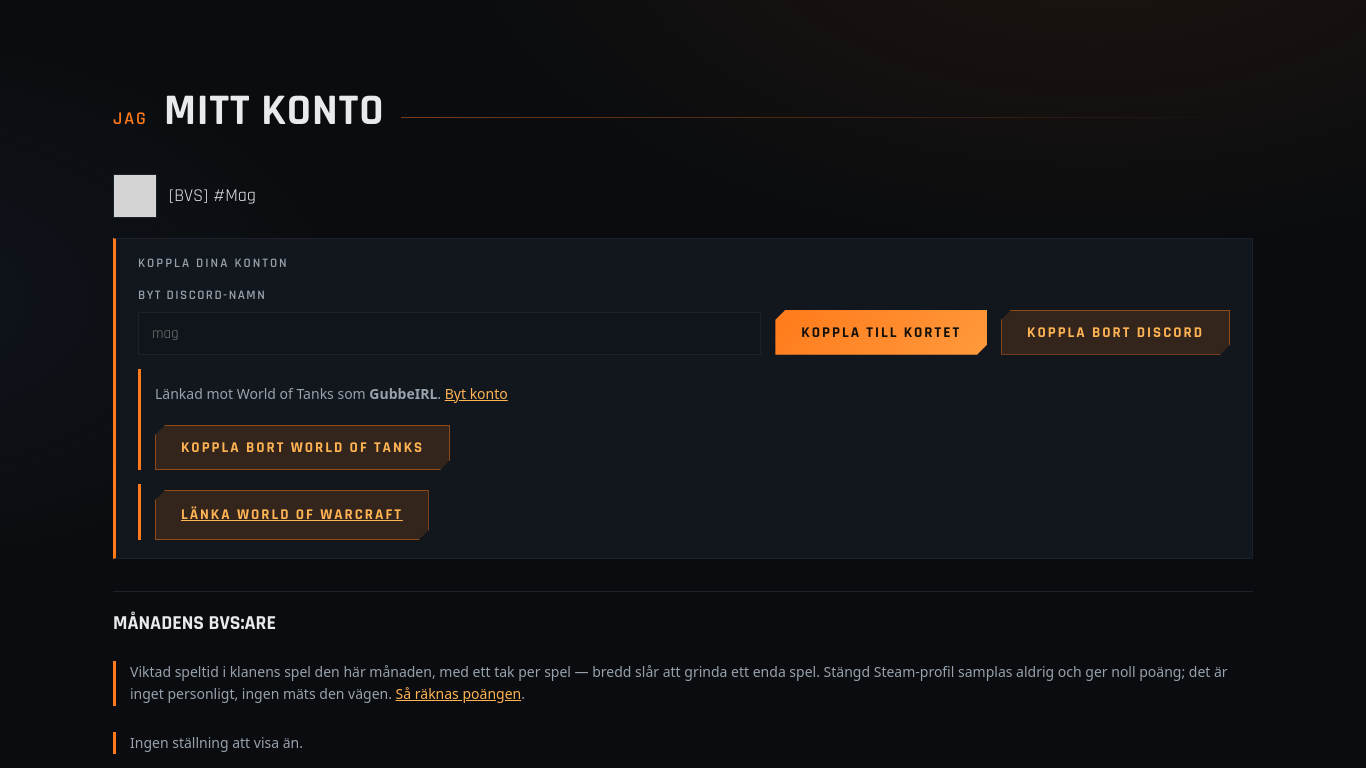
Test: unlinking a World of Tanks account › says so when the server refused to unlink
Click the button "Koppla bort World of Tanks" at x=303, y=448, box [155,425,450,470]
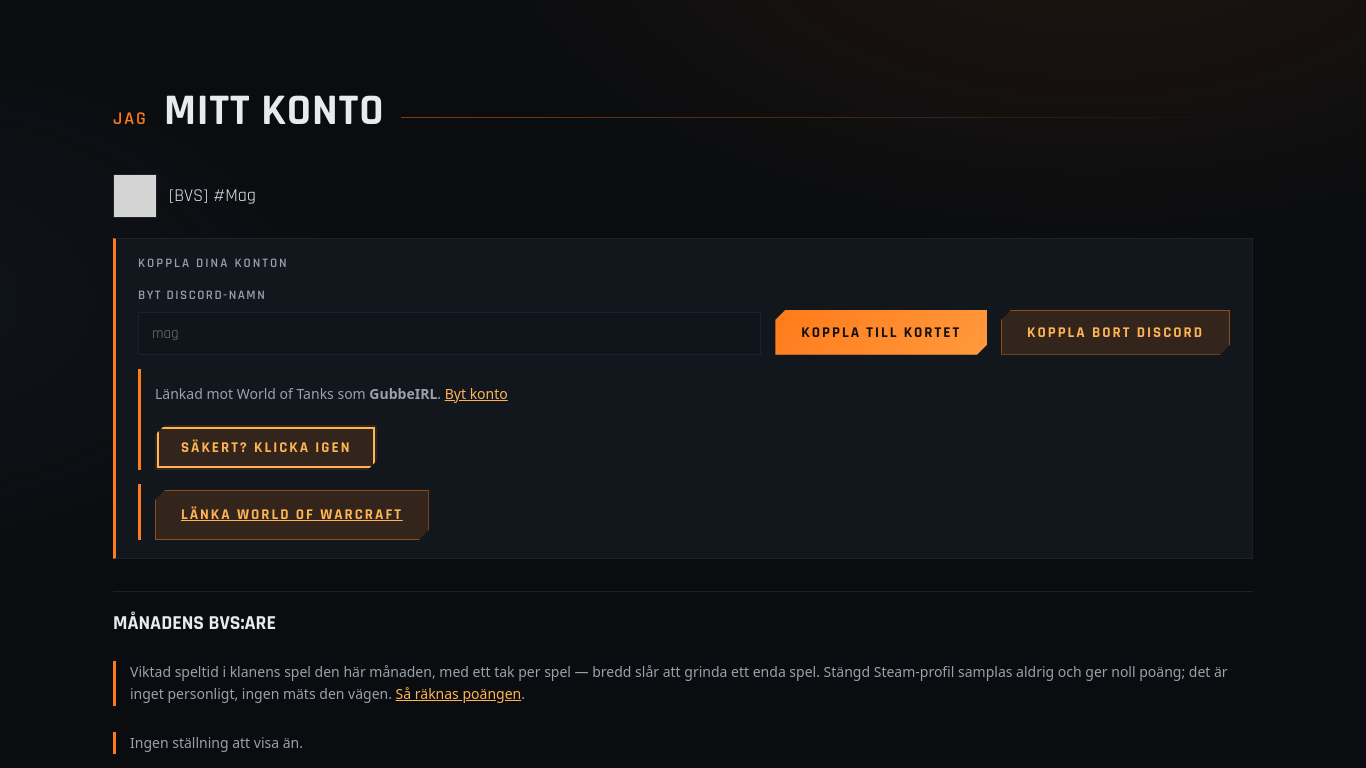
Click the button named "Koppla bort World of Tanks" at x=266, y=448, box [155,425,378,470]
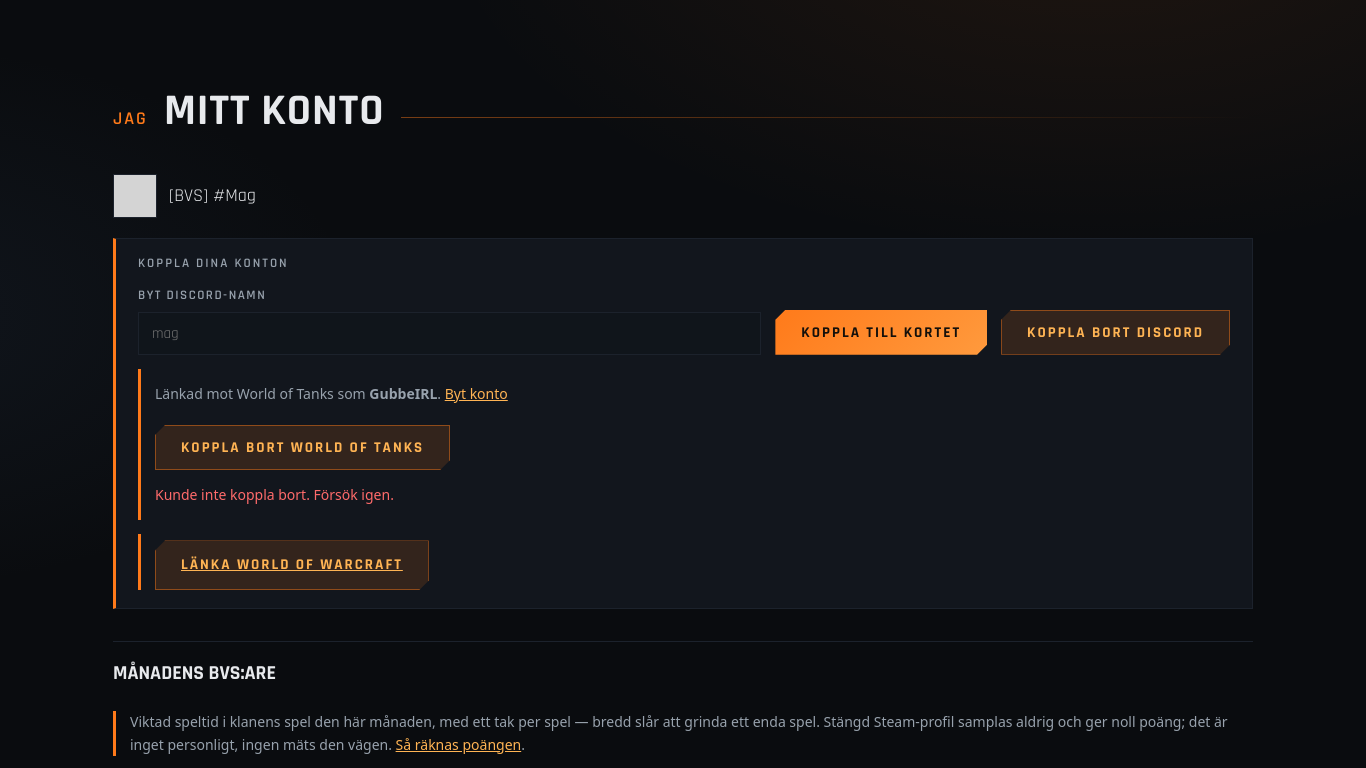
Expected: the text "Kunde inte koppla bort. Försök igen." is shown, [155,485,394,504]
